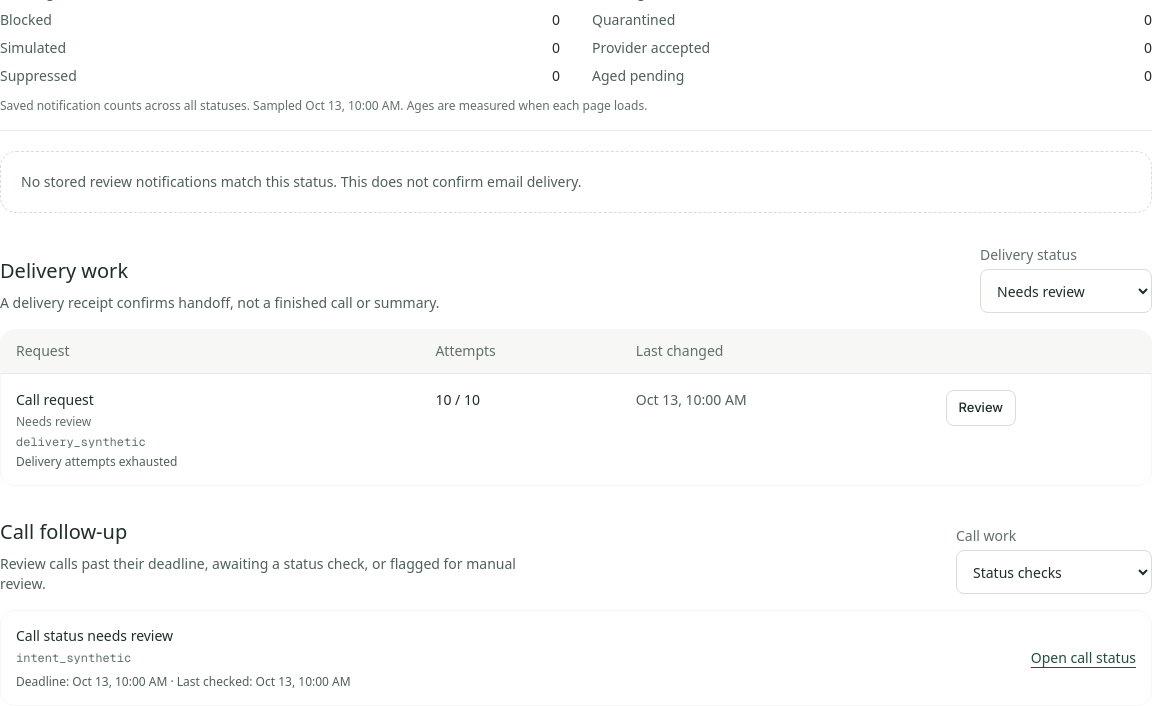
Test: Operations workspace › requires approval of the exact snapshot and grants only the selected retry action
(page scrolled)
Click the button with aria-label "Review call request delivery_synthetic". click: (981, 408)
box: left=946, top=390, right=1016, bottom=426
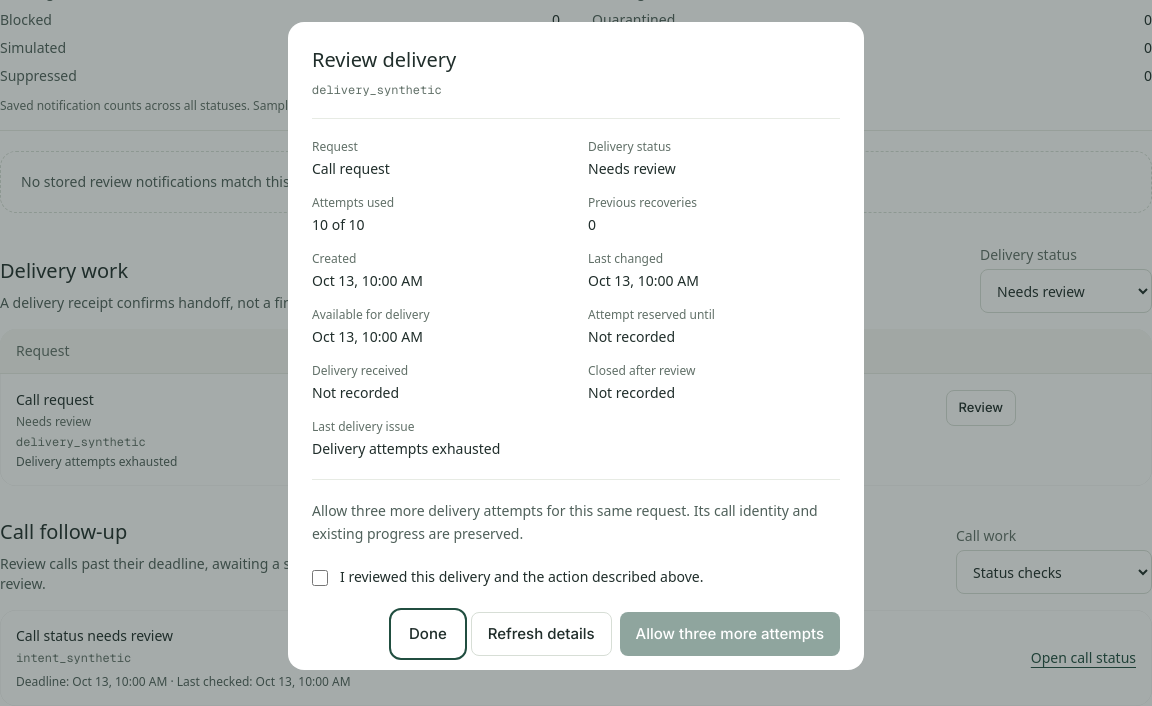
Result: the button "Allow three more attempts" is disabled at left=620, top=612, right=840, bottom=656
Click the checkbox. click: (320, 578)
box: left=312, top=570, right=328, bottom=586
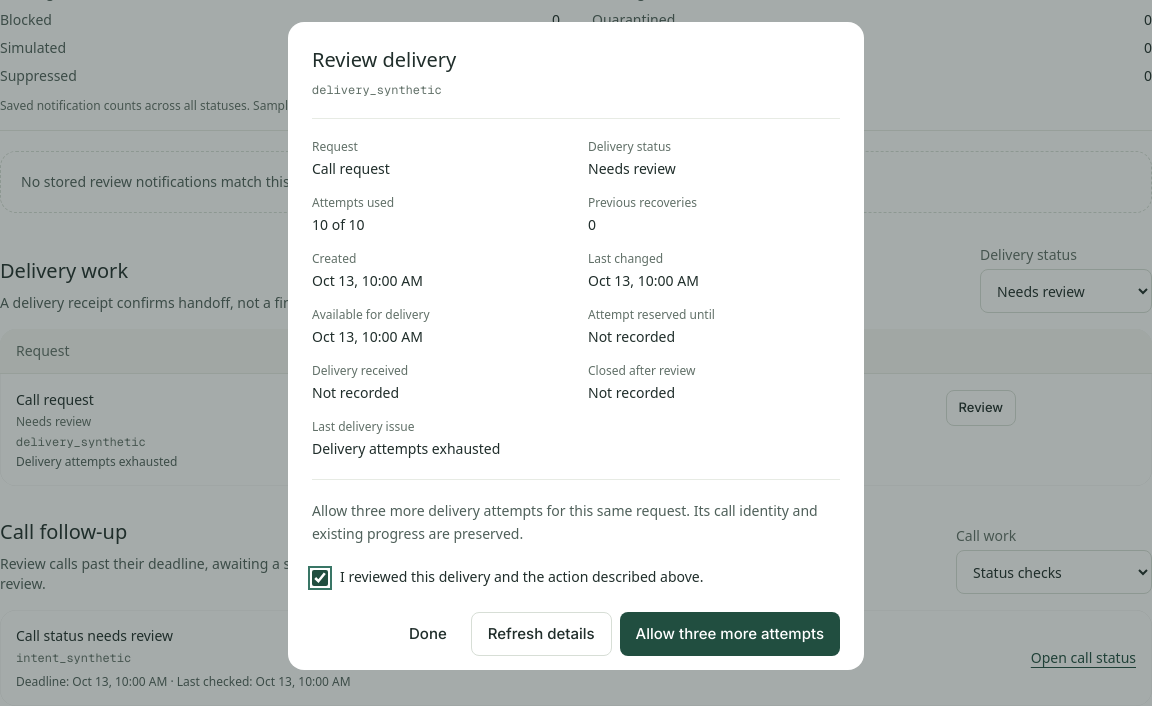
Click the button "Allow three more attempts". click: (730, 634)
box: left=620, top=612, right=840, bottom=656
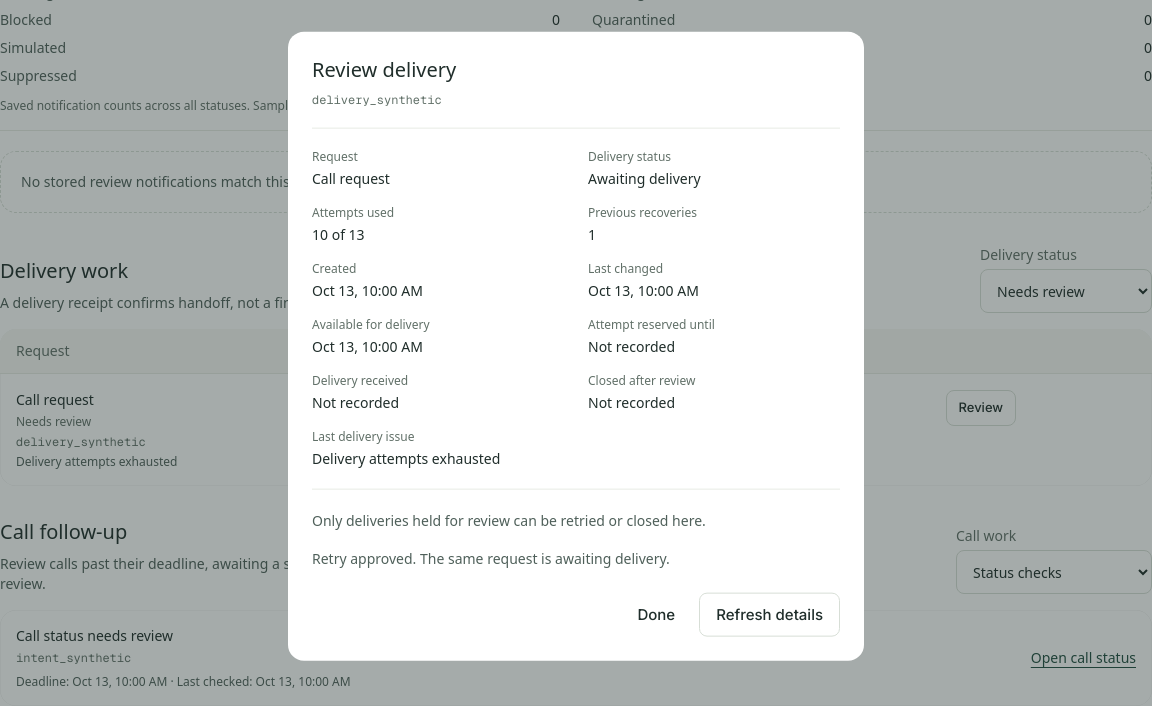
Result: the text "Retry approved. The same request is awaiting delivery." is shown at left=312, top=548, right=670, bottom=567
Result: the button "Allow three more attempts" is gone
